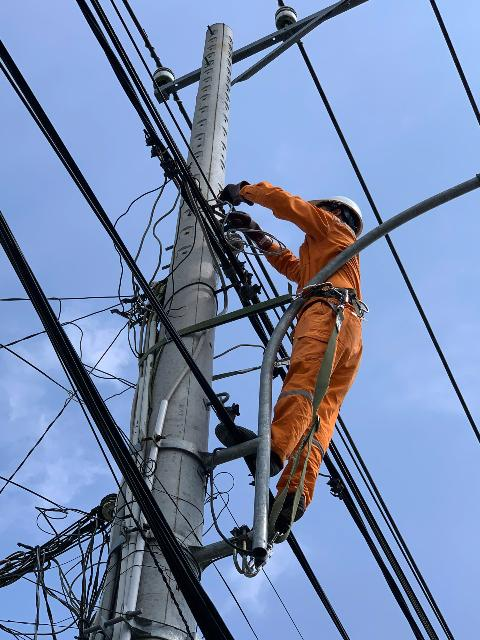gloves: (215, 198, 273, 251), (216, 173, 263, 210)
helmet: (306, 184, 370, 237)
shoes: (217, 411, 277, 484), (255, 487, 320, 533)
